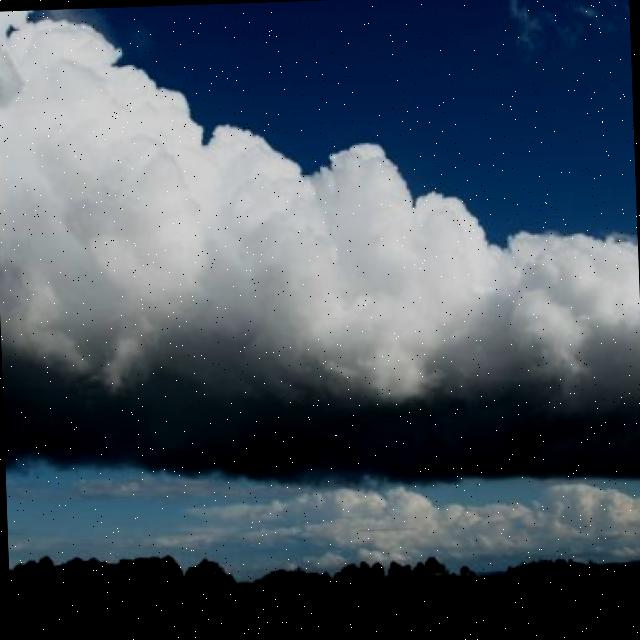Cu: (1, 76, 640, 430)
